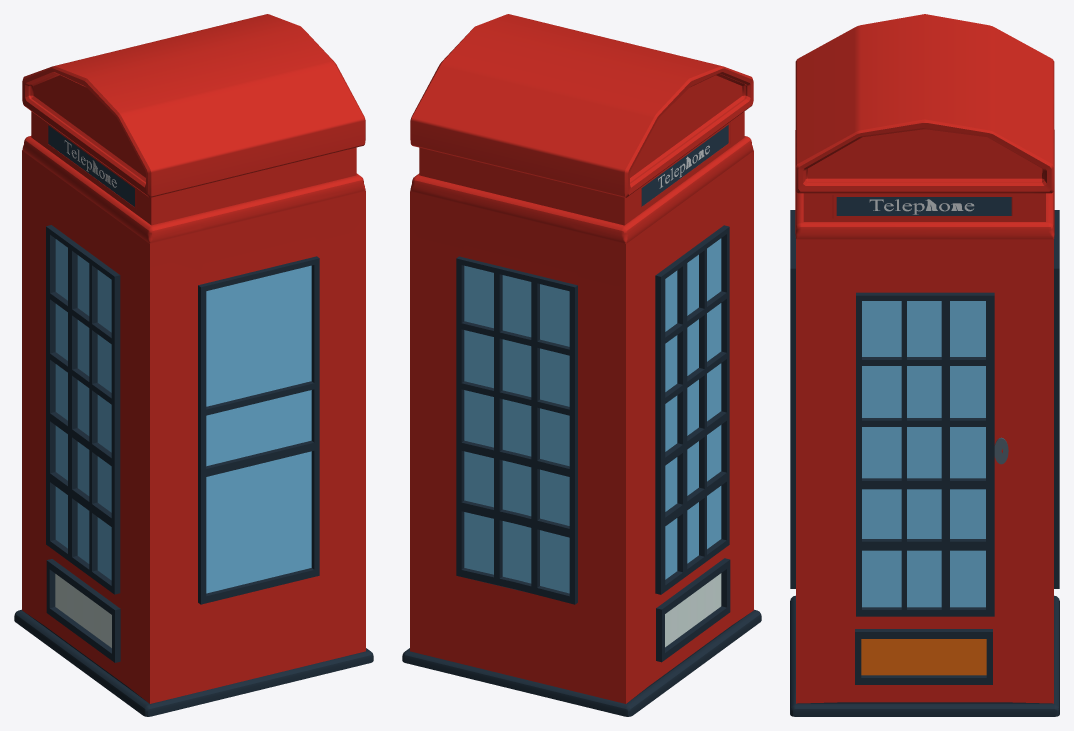
File: telephone.fbx
The picture shows the model from 3 angles, left to right: view 1: azimuth 30°, elevation 25°; view 2: azimuth 150°, elevation 25°; view 3: azimuth 270°, elevation 25°; orthographic projection.
Visible parts, largest first — view 1: phone_booth; view 2: phone_booth; view 3: phone_booth.
Part boxes in pixels (left/top/right/bottom): phone_booth: left=14, top=14, right=373, bottom=716; phone_booth: left=402, top=14, right=761, bottom=716; phone_booth: left=790, top=14, right=1059, bottom=716.
Bounding box in the file's own units: 15.35 × 37.61 × 15.49.
